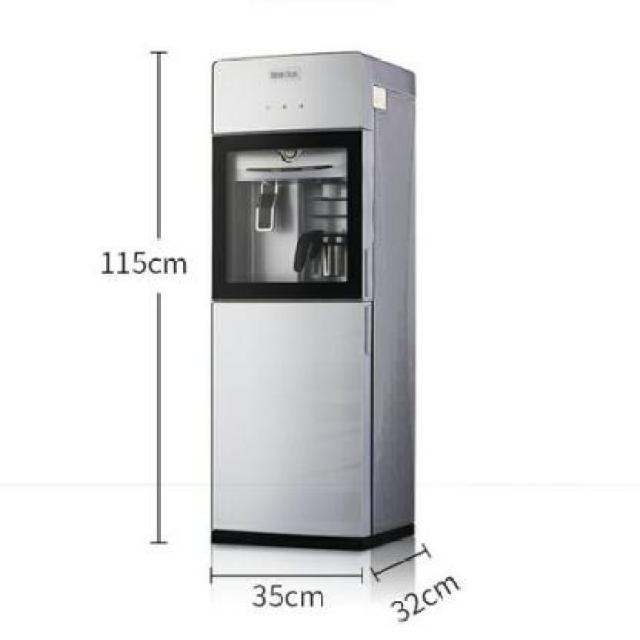cooler: (205, 45, 420, 559)
